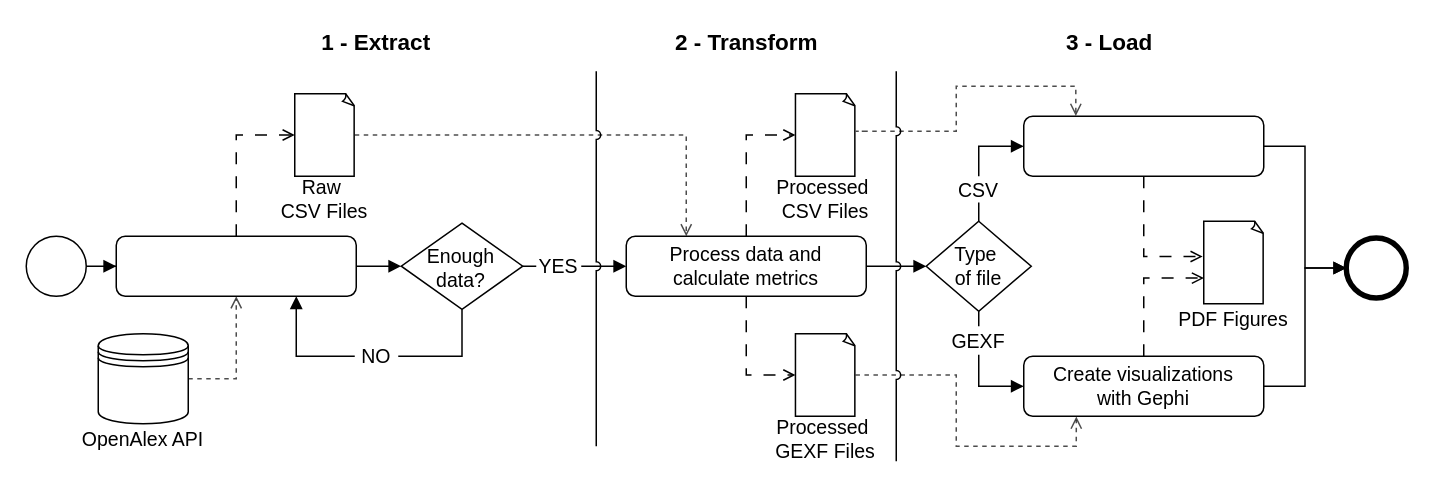
The diagram is 1434 pixels wide and 489 high, and some of its shapes have lost their labels. Each missing label, with the centre of its shape:
Create visualizations with Seaborn: the point at 1143,145
Extract raw data by using requests: the point at 235,265
